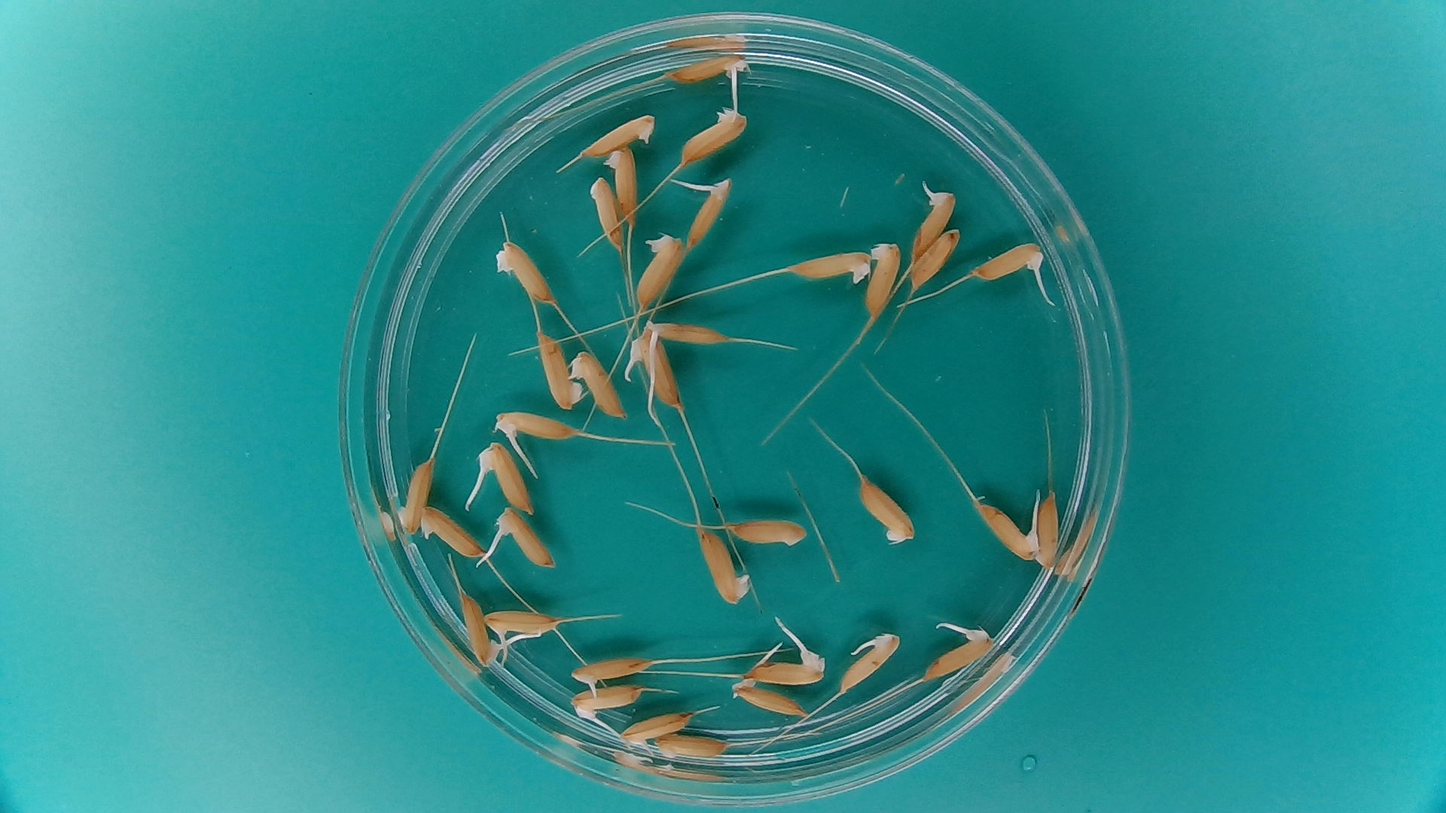no: (676, 99, 752, 168), (493, 234, 559, 306), (572, 110, 659, 161), (633, 229, 687, 309), (696, 526, 751, 604), (532, 327, 582, 411), (570, 349, 630, 419), (858, 474, 917, 545), (419, 503, 484, 560), (787, 246, 874, 286), (730, 677, 809, 718), (911, 228, 960, 293), (866, 238, 903, 319), (604, 142, 642, 220), (586, 173, 624, 251), (395, 457, 432, 537), (728, 517, 810, 548), (653, 731, 731, 763), (1033, 492, 1063, 568)
yes: (972, 501, 1051, 564), (627, 329, 685, 410), (472, 440, 534, 515), (920, 623, 996, 682), (491, 505, 557, 570), (683, 172, 737, 251), (838, 632, 904, 694), (569, 652, 656, 698), (458, 589, 505, 668), (970, 239, 1048, 286), (744, 644, 828, 687), (911, 180, 956, 260), (491, 406, 577, 445), (661, 50, 751, 87), (479, 606, 565, 644), (611, 711, 693, 749), (561, 685, 644, 720), (644, 320, 733, 346)
